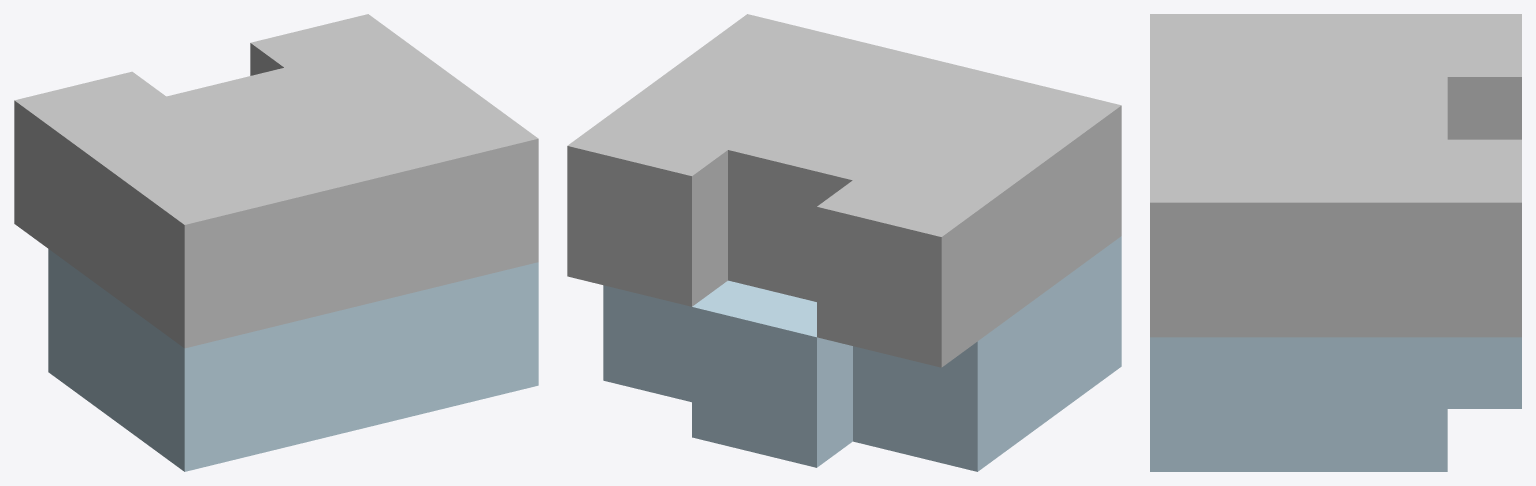
The model's file is tool podium.fbx.
The picture shows the model from 3 angles, left to right: view 1: azimuth 30°, elevation 25°; view 2: azimuth 150°, elevation 25°; view 3: azimuth 270°, elevation 25°; orthographic projection. The views are drawn at different scales.
Parts seen in each view (by area): view 1: imagetostl_mesh0, imagetostl_mesh1; view 2: imagetostl_mesh0, imagetostl_mesh1; view 3: imagetostl_mesh0, imagetostl_mesh1.
Part boxes in pixels (x1,y1,x2,y2): imagetostl_mesh0: [14, 14, 538, 348]; imagetostl_mesh1: [48, 249, 538, 471]; imagetostl_mesh0: [567, 14, 1121, 367]; imagetostl_mesh1: [603, 236, 1121, 471]; imagetostl_mesh0: [1150, 14, 1521, 337]; imagetostl_mesh1: [1150, 337, 1521, 471].
Size of the model in its own units: 3000 by 2000 by 2500.
